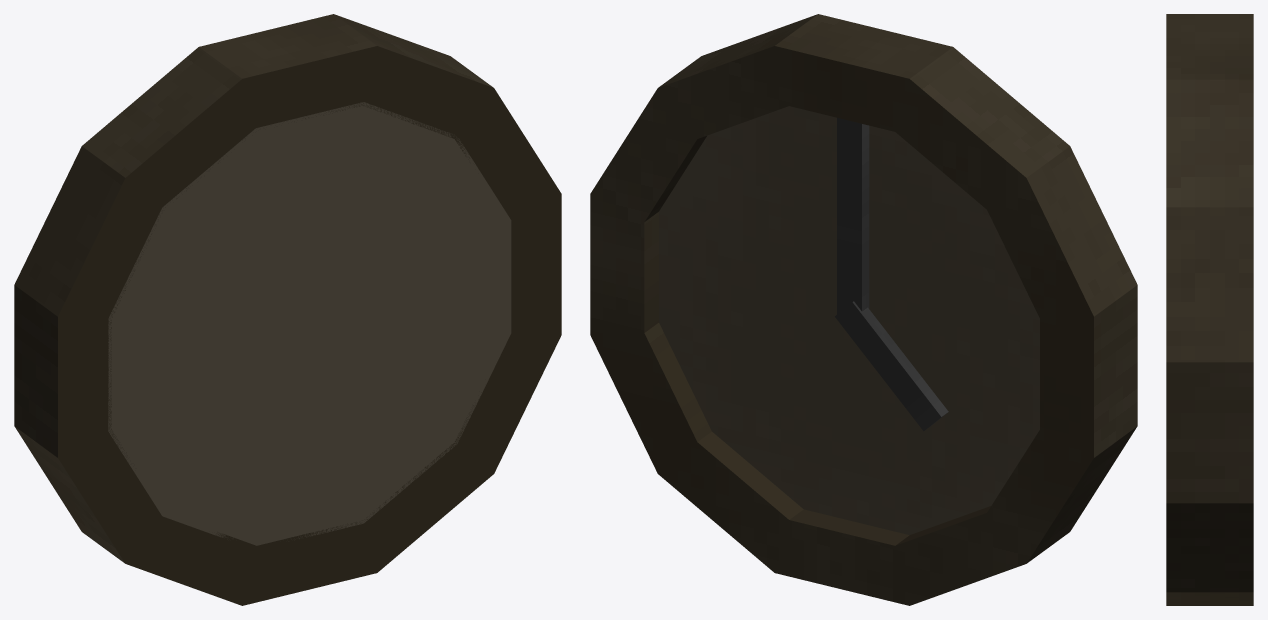
The model's file is clock.gltf.
3 renders of one model, left to right at view 1: azimuth 30°, elevation 25°; view 2: azimuth 150°, elevation 25°; view 3: azimuth 270°, elevation 25°, orthographic.
Parts seen in each view (by area): view 1: cylinder, tube; view 2: tube, cylinder, cuboid (×2); view 3: tube.
Boxes of the visible parts, x1,y1,x2,y2 form: cylinder: [108, 102, 511, 545]; tube: [14, 14, 561, 605]; tube: [590, 14, 1137, 605]; cylinder: [659, 106, 1039, 535]; cuboid (×2): [835, 118, 948, 431]; tube: [1166, 14, 1253, 605].
Bounding box in the file's own units: 1.25 × 1.25 × 0.1875.
1 material, 1 textured.
